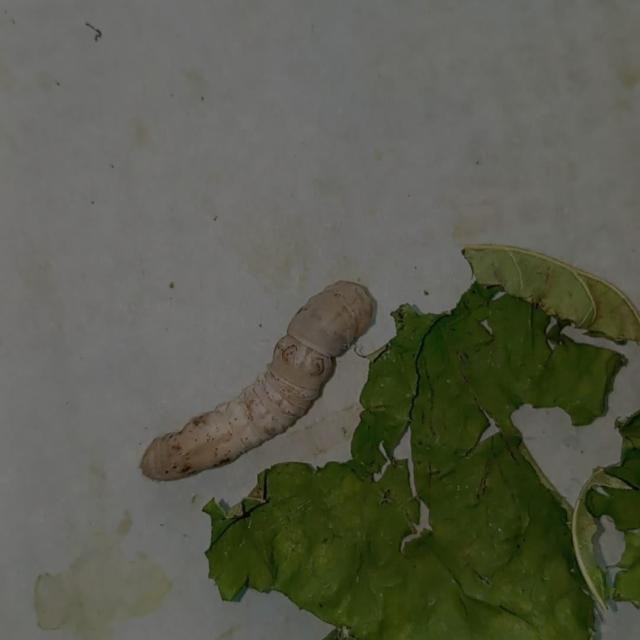Grasserie: (127, 261, 377, 492)
